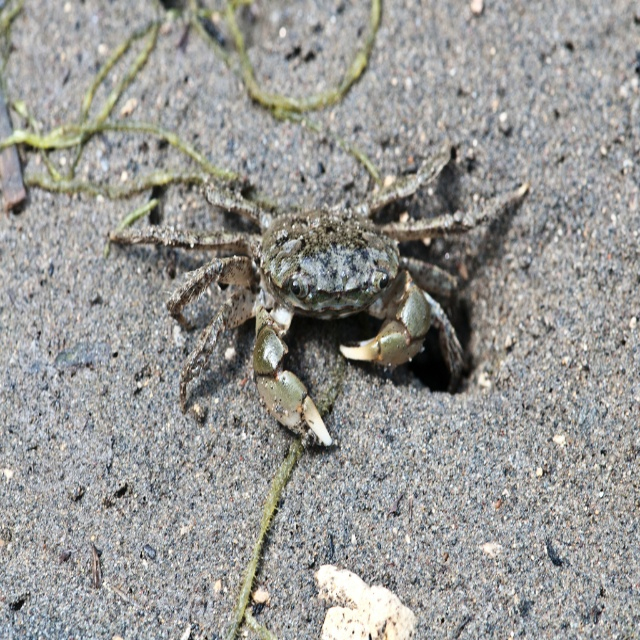Crab: (113, 147, 534, 459)
